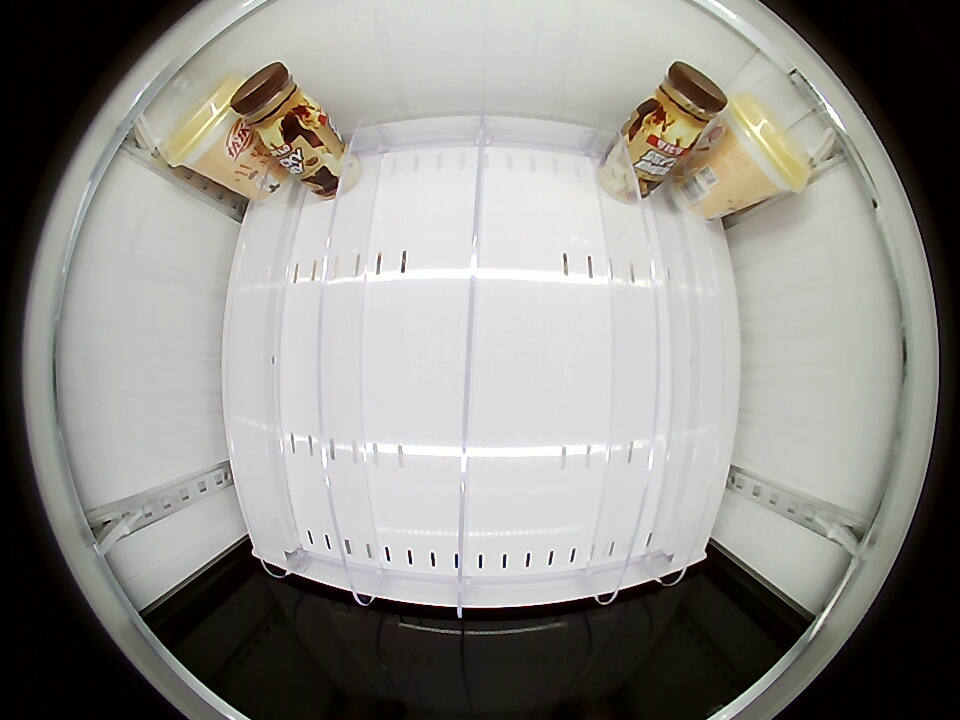lujikafei: (638, 61, 728, 148), (230, 61, 315, 145)
youlemei: (719, 91, 810, 200), (165, 74, 243, 171)
